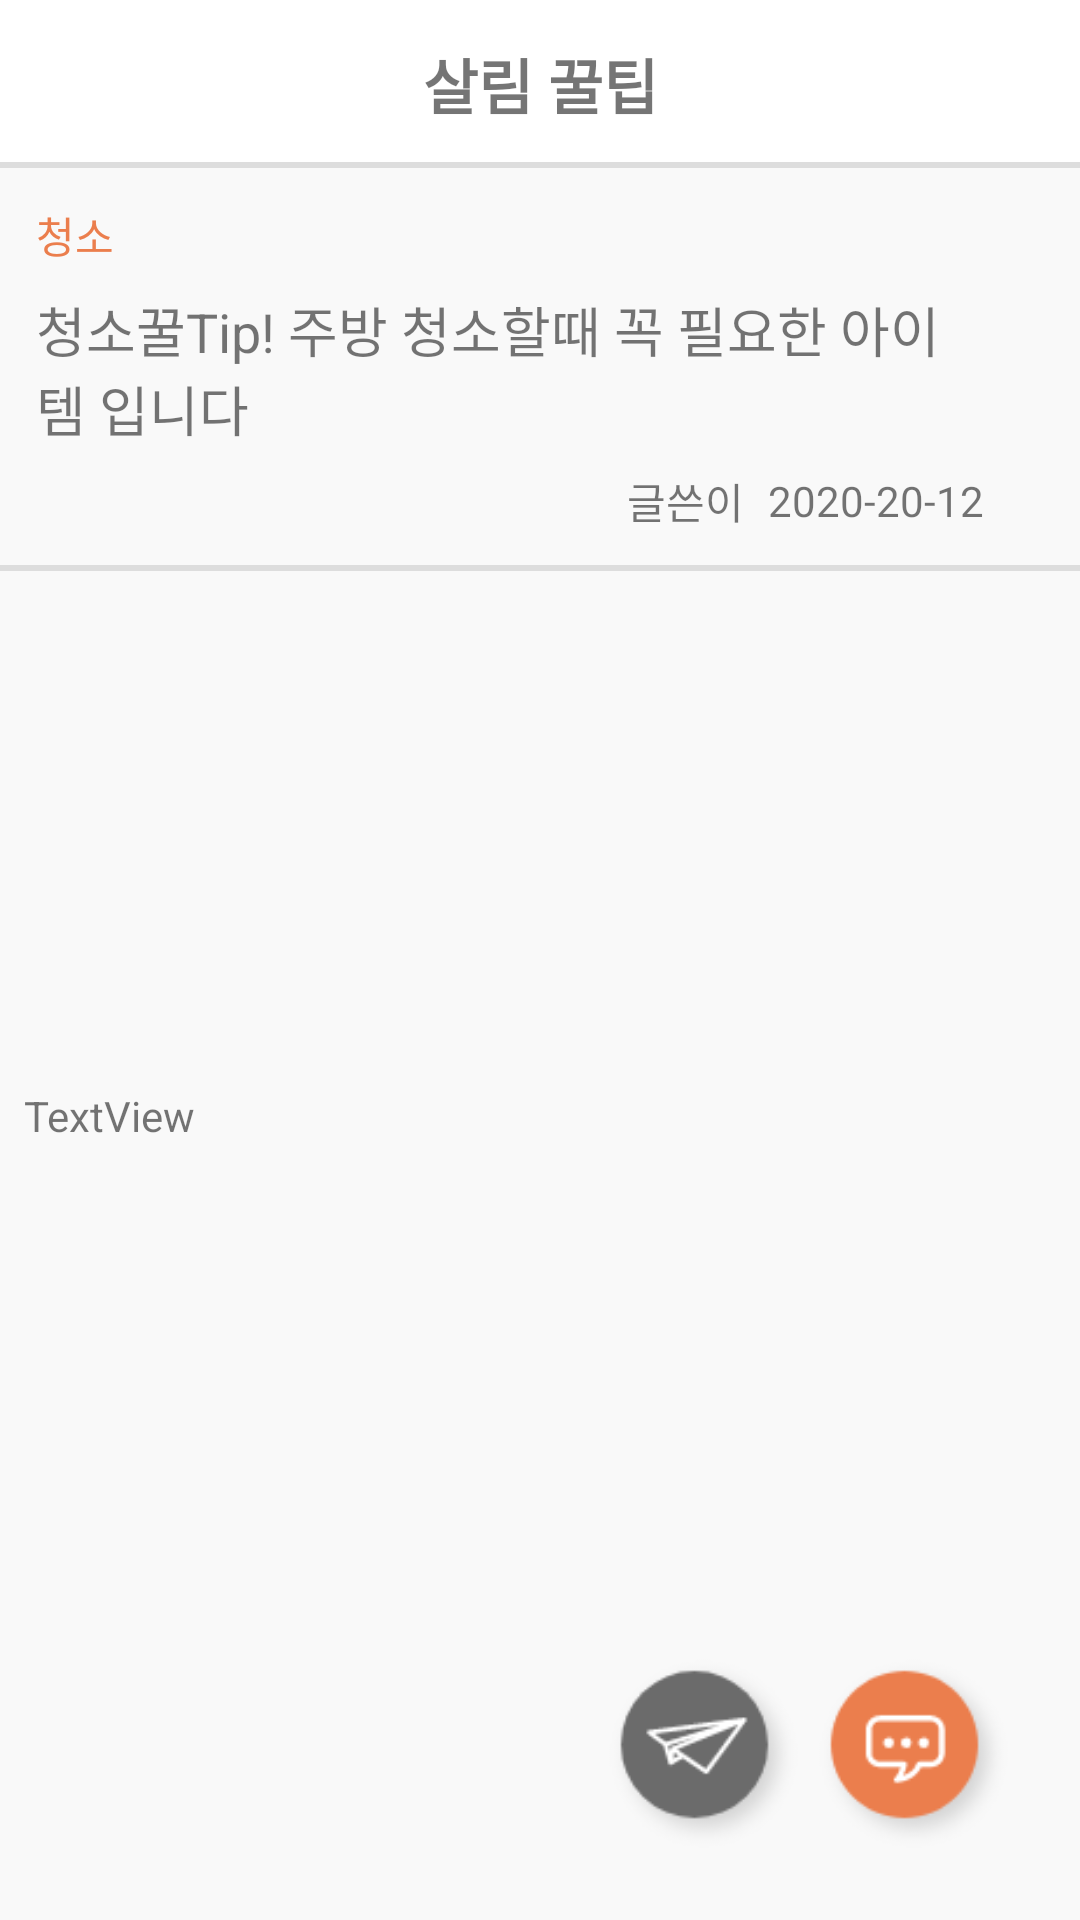

Named icons in this screenshot (1080x1920) and their bounding boxes, (left=x1, top=y1, right=x2, bottom=y2):
comment: (left=830, top=1670, right=984, bottom=1824)
